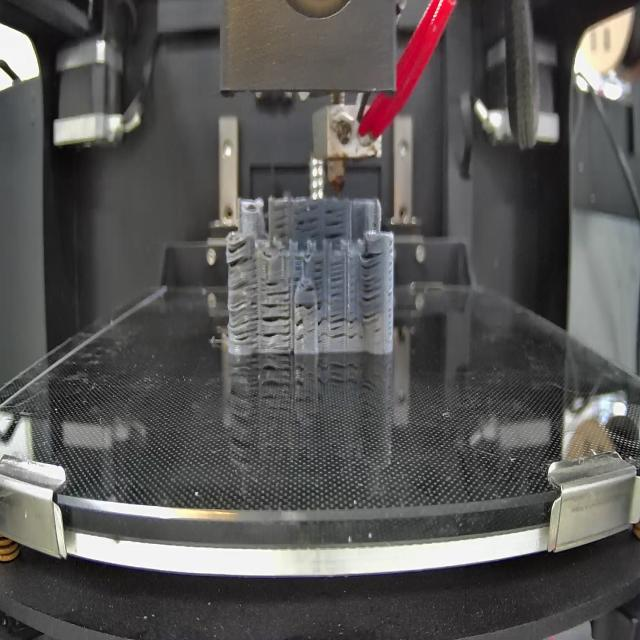cracks: (229, 282, 258, 346), (362, 248, 383, 326), (261, 305, 291, 346), (324, 204, 348, 240), (295, 206, 321, 238), (227, 240, 255, 268), (264, 277, 291, 301), (330, 258, 345, 296), (329, 312, 346, 338), (274, 212, 289, 238), (295, 299, 322, 312), (292, 254, 304, 282), (348, 312, 359, 341), (313, 260, 324, 285), (295, 319, 305, 341), (318, 316, 327, 336), (305, 284, 313, 294)
